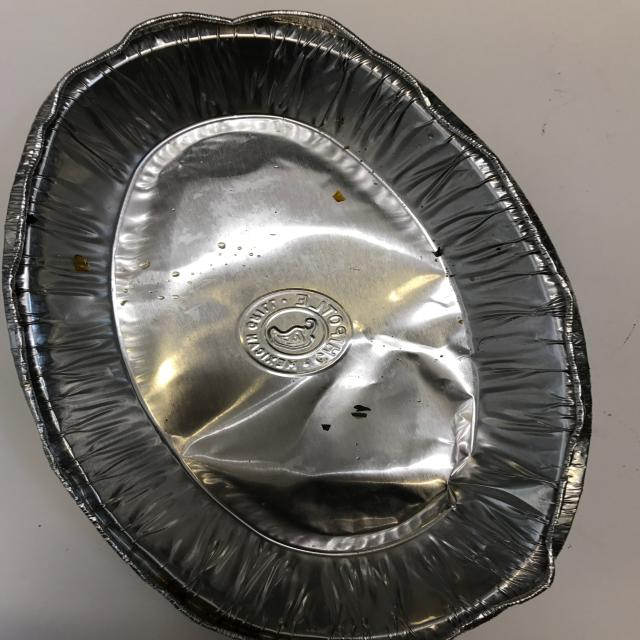metal: (1, 9, 593, 640)
